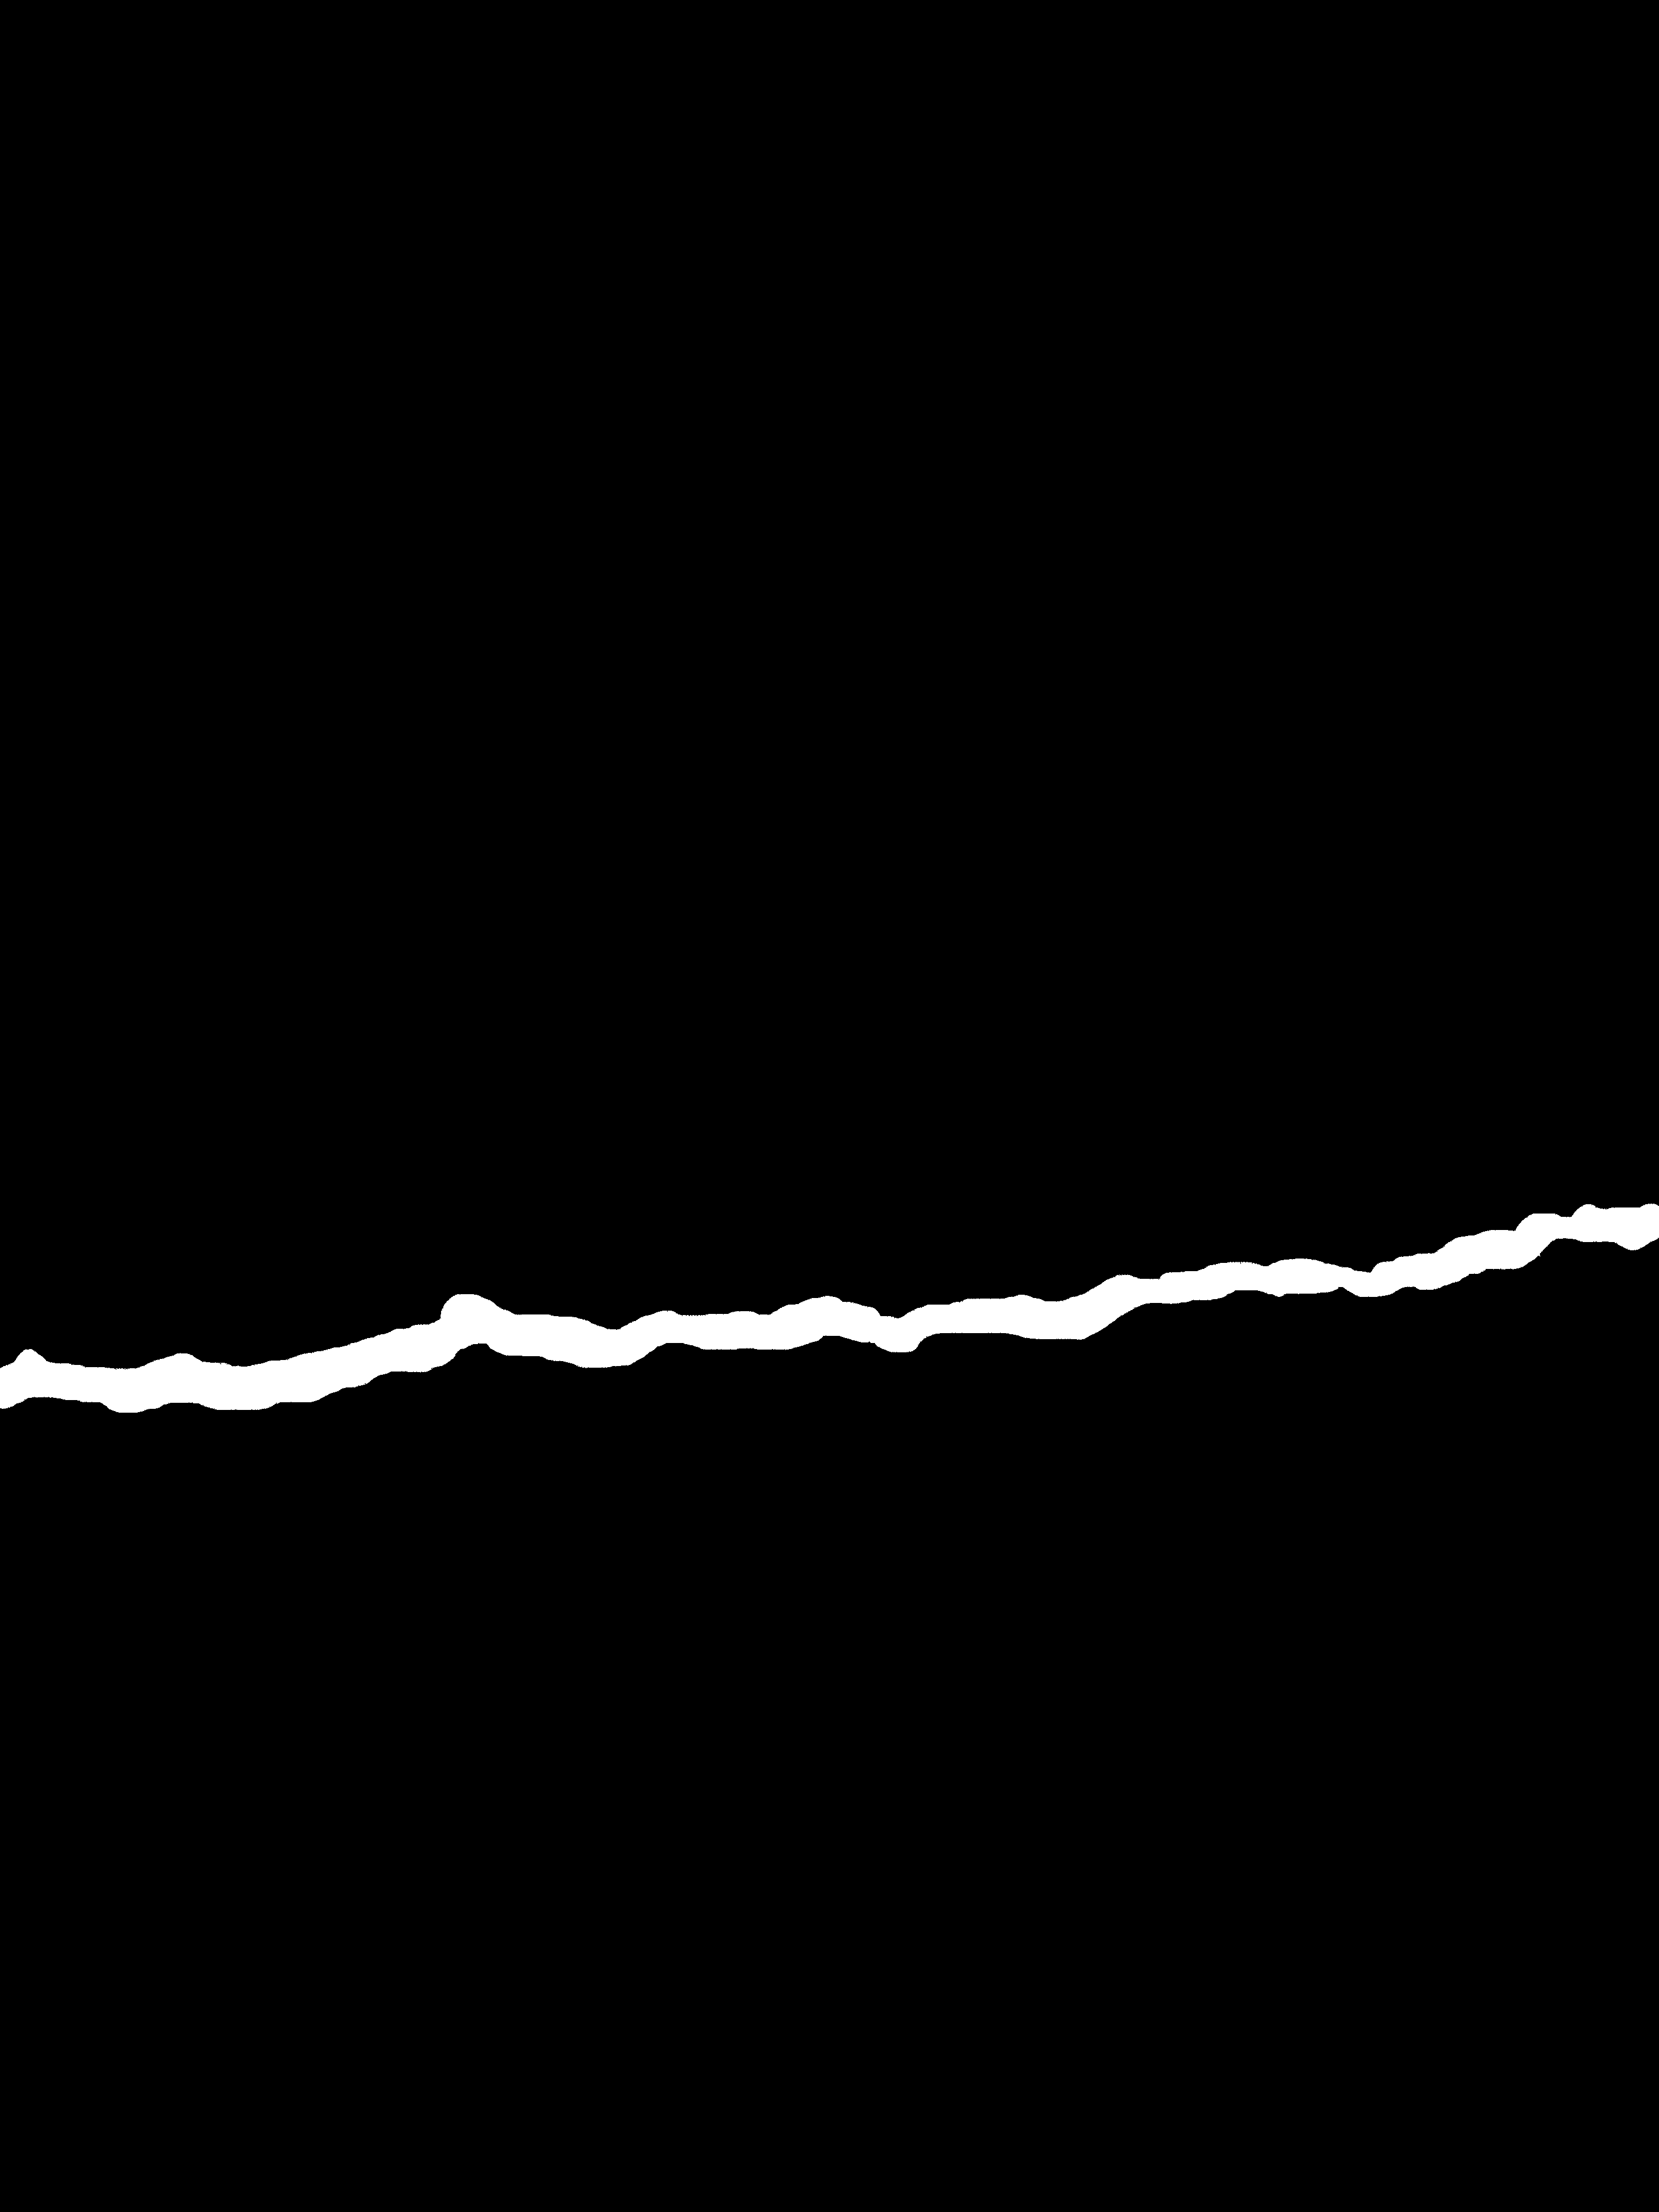Crack: (0, 1155, 1659, 1428)
